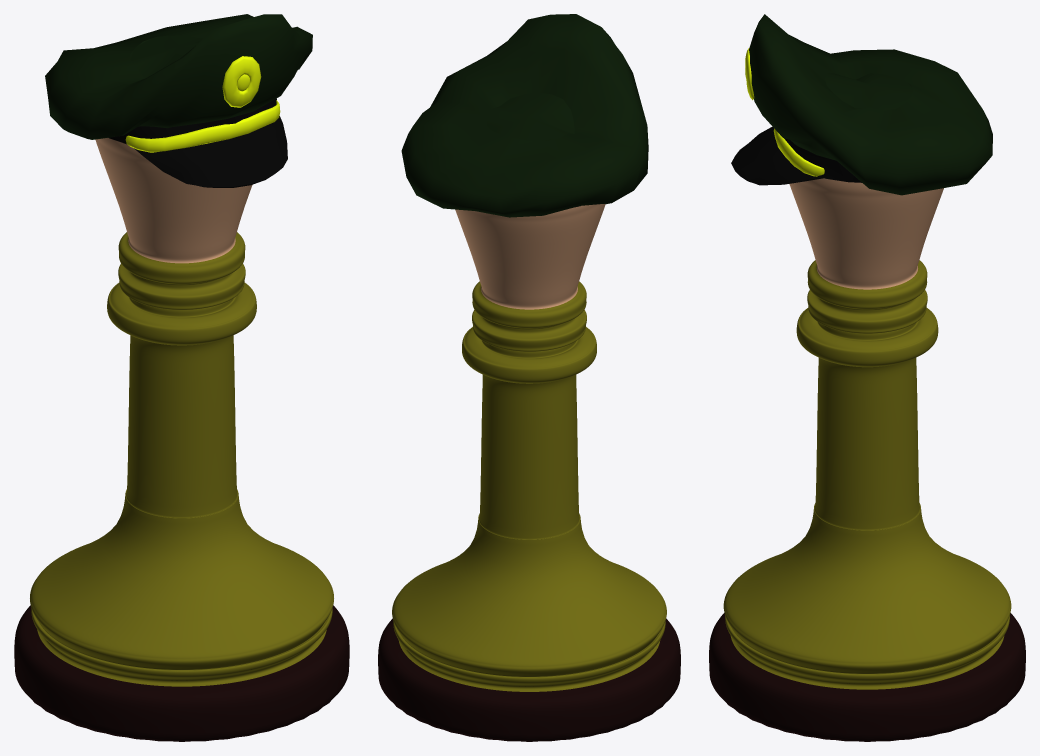
The model's file is Rei Branco.FBX.
3 views of the same model, side by side, from view 1: azimuth 30°, elevation 25°; view 2: azimuth 150°, elevation 25°; view 3: azimuth 270°, elevation 25° (orthographic). The views are drawn at different scales.
Visible parts, largest first — view 1: polySurface061, ReiBranco; view 2: polySurface061, ReiBranco; view 3: polySurface061, ReiBranco.
Boxes of the visible parts, bbox=[...] form: polySurface061: bbox=[14, 138, 349, 741]; ReiBranco: bbox=[45, 14, 312, 187]; polySurface061: bbox=[378, 204, 680, 741]; ReiBranco: bbox=[401, 14, 648, 217]; polySurface061: bbox=[709, 178, 1025, 741]; ReiBranco: bbox=[731, 14, 992, 195].
Size of the model in its own units: 44.5 by 103 by 44.5.
